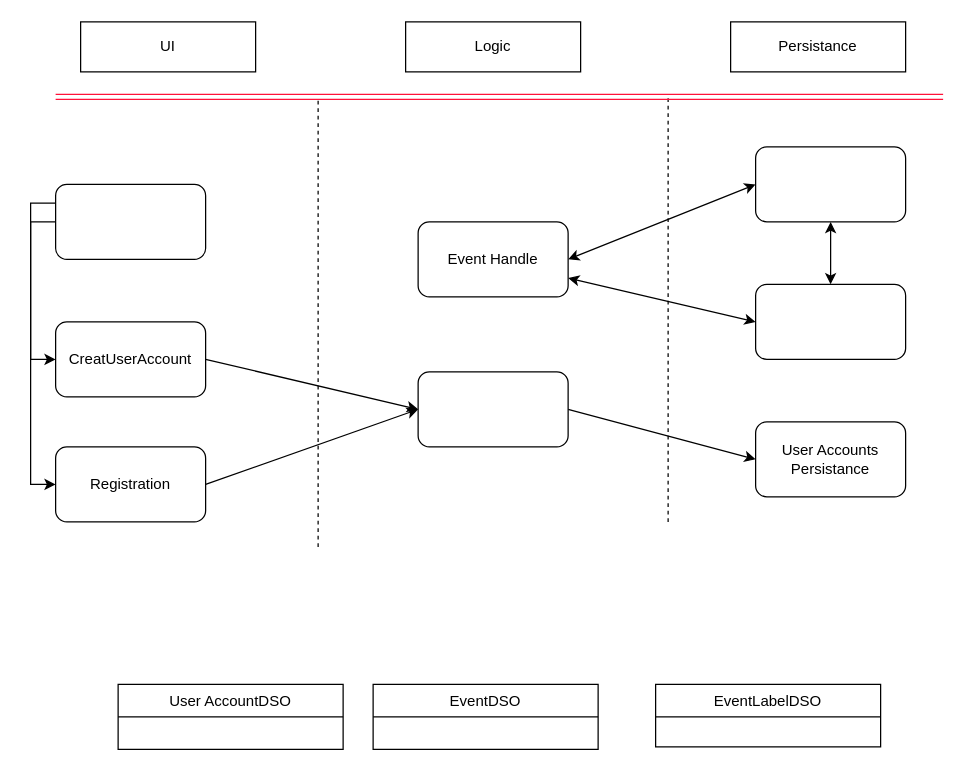
Some shapes in this 965 by 771 pixel diagram are drawn without their labels. Each missing label, with the box of its shape:
Event Persistance: (754, 146, 906, 222)
EventLabels Persistance: (754, 283, 906, 359)
HomePage: (54, 183, 206, 259)
User Account Handle: (417, 371, 568, 447)
